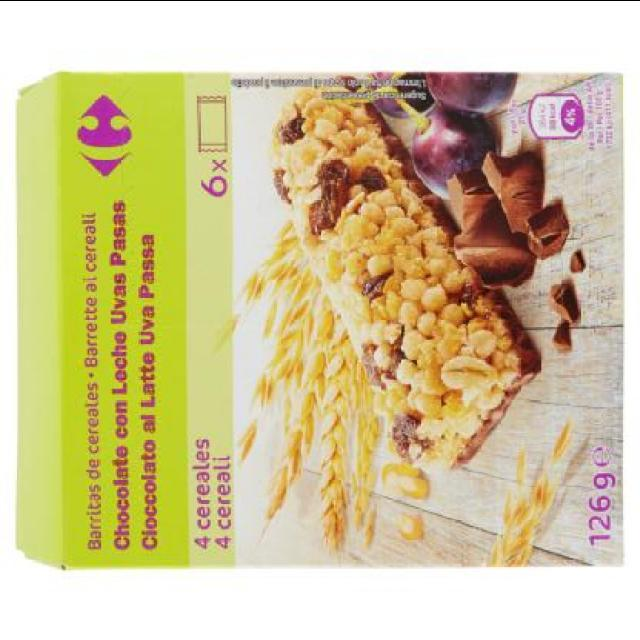Cereal bar: (15, 58, 627, 574)
